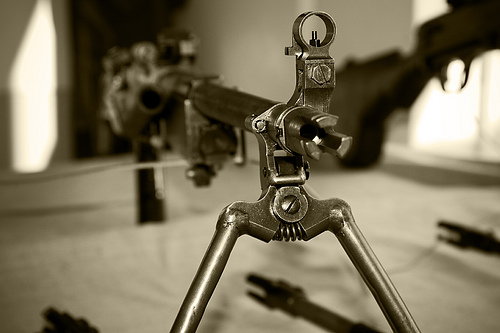rifle: (115, 16, 411, 198)
